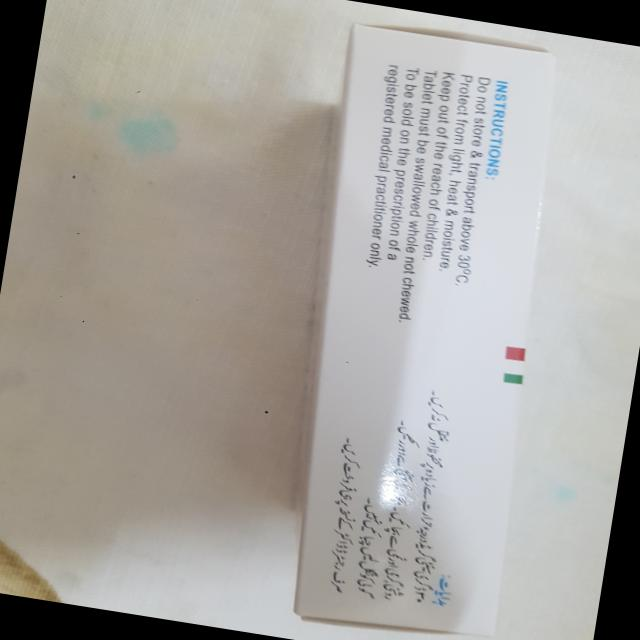electronic: (258, 18, 586, 640)
